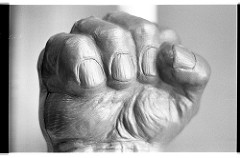fist: (44, 17, 191, 140)
